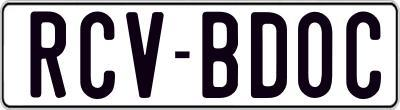0: (297, 11, 333, 97)
B: (202, 10, 243, 101)
C: (80, 9, 117, 100), (344, 11, 382, 98)
D: (249, 12, 286, 102)
R: (28, 8, 69, 96)
V: (123, 12, 167, 101)
